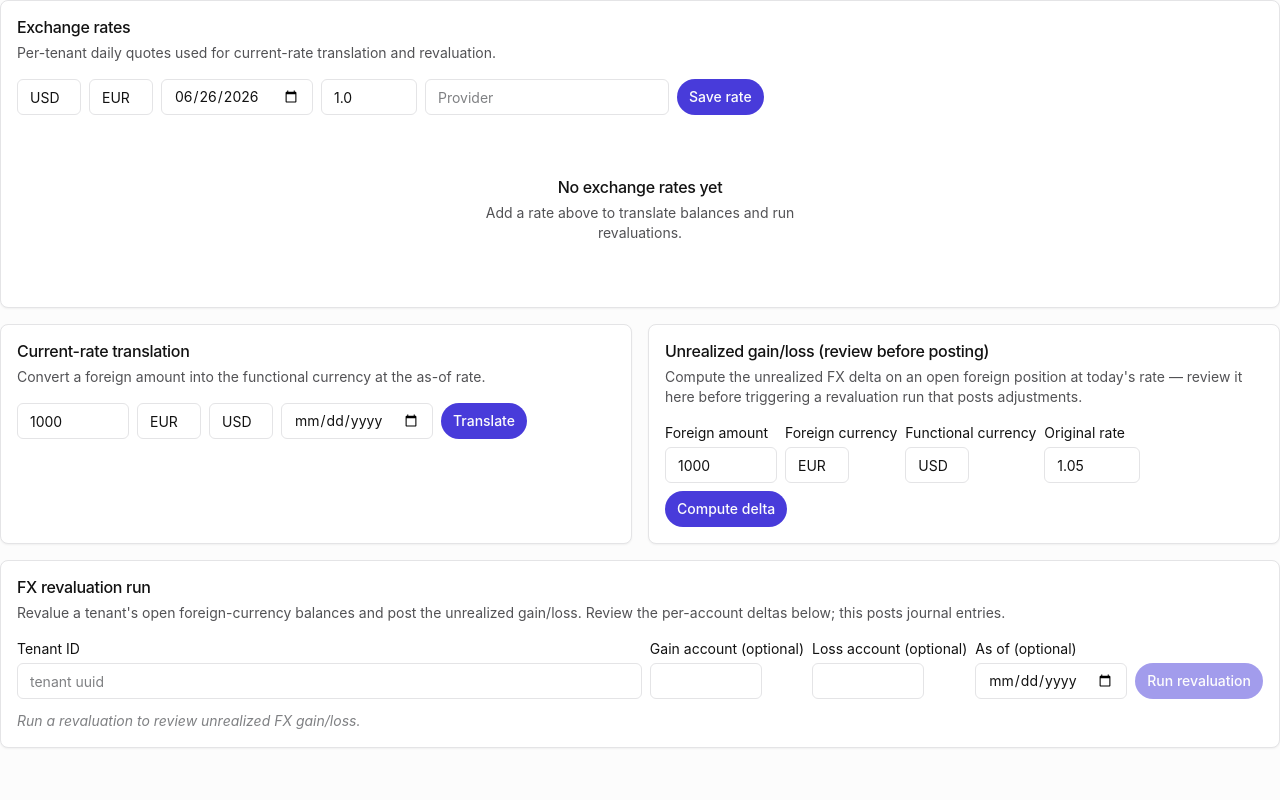
it: FxReviewPanel › computes unrealized gain/loss for review
Click the button "Compute delta" at (726, 509), box [665,491,787,527]
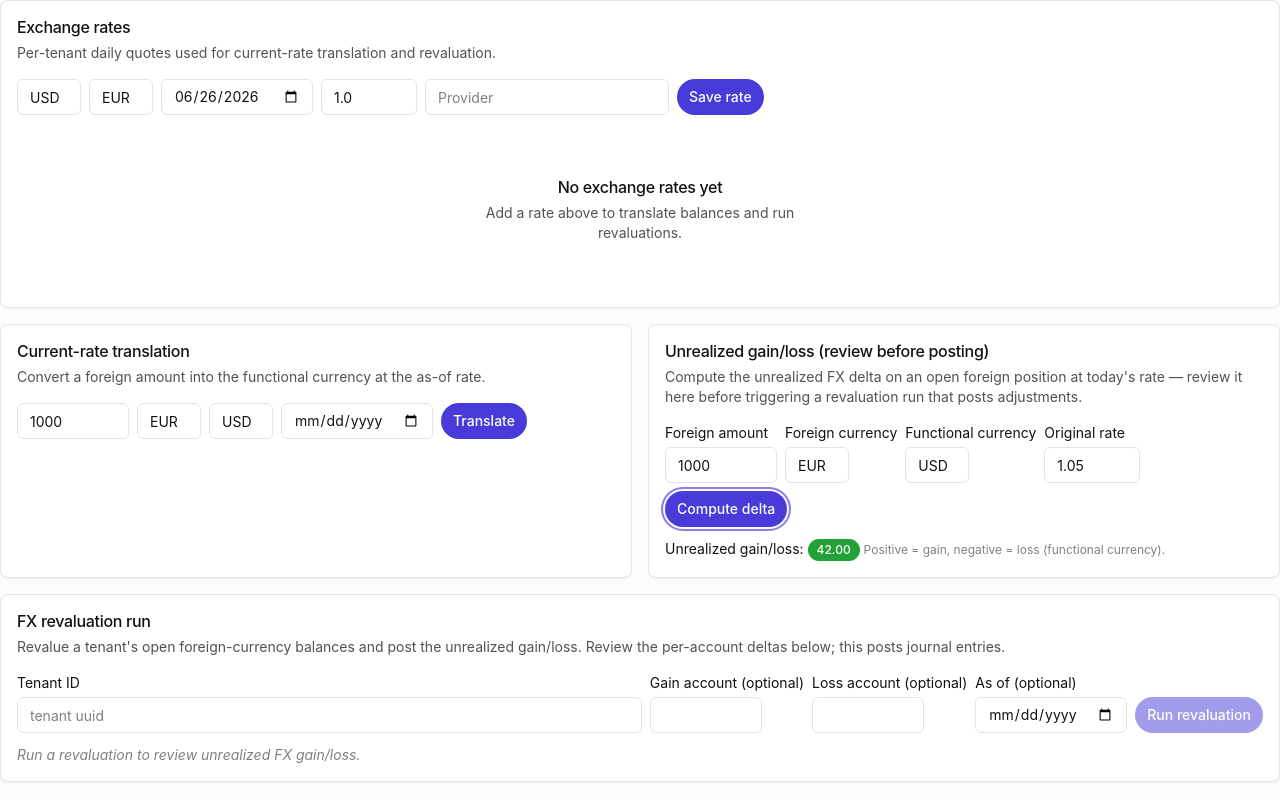
Now the text "42.00" is shown, box [808,539,860,561]
